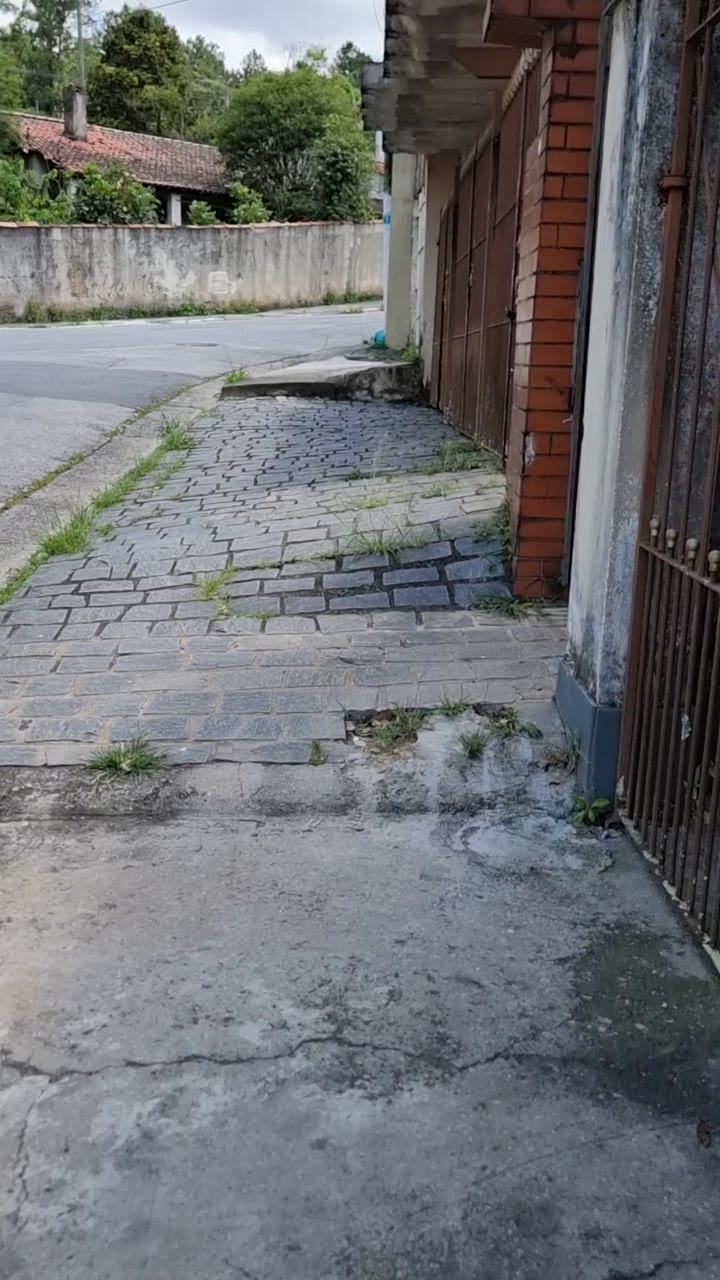desnivel: (324, 666, 576, 755), (216, 346, 475, 422)
